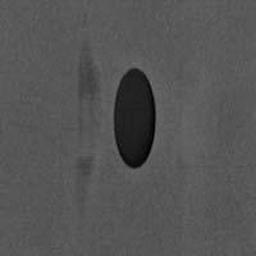Punching: (111, 68, 156, 170)
